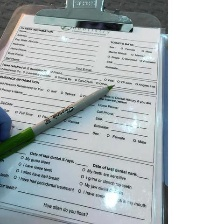book: (0, 11, 163, 223)
